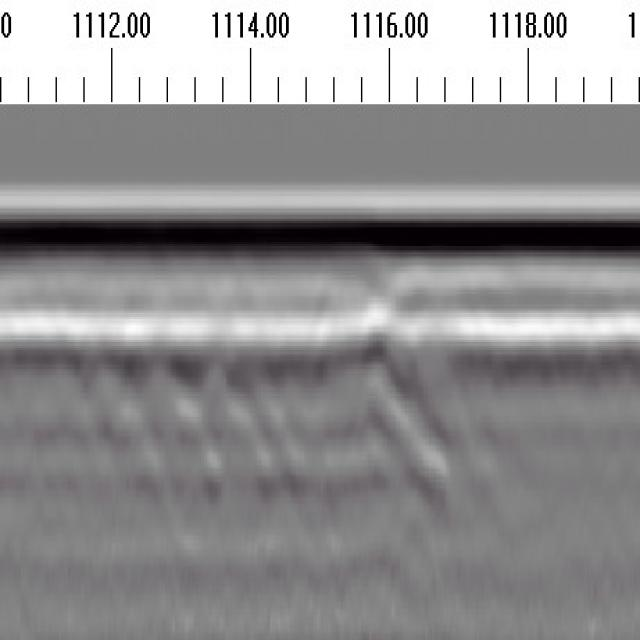loose: (100, 307, 450, 512)
